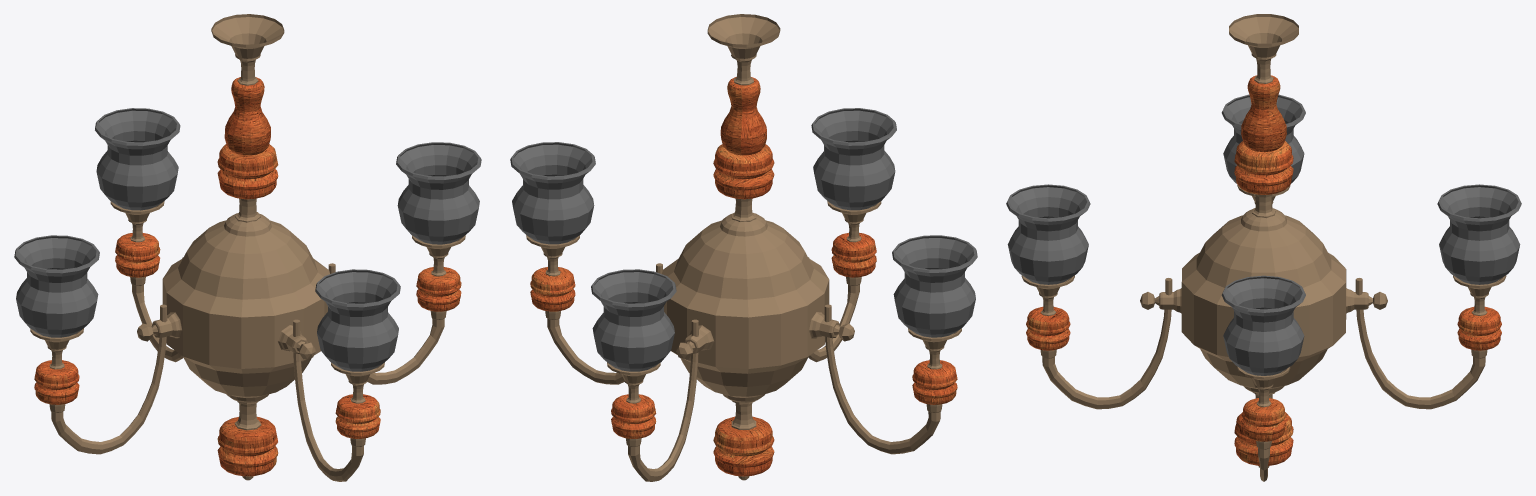
The model's file is Chandelier.fbx.
The picture shows the model from 3 angles, left to right: view 1: azimuth 30°, elevation 25°; view 2: azimuth 150°, elevation 25°; view 3: azimuth 270°, elevation 25°; orthographic projection. The views are drawn at different scales.
Parts seen in each view (by area): view 1: Chandelier; view 2: Chandelier; view 3: Chandelier.
Boxes of the visible parts, box(x1,y1,x2,y2) form: Chandelier: box(14, 14, 481, 481); Chandelier: box(510, 14, 977, 481); Chandelier: box(1006, 14, 1521, 481).
Bounding box in the file's own units: 1.94 × 1.83 × 1.94.
